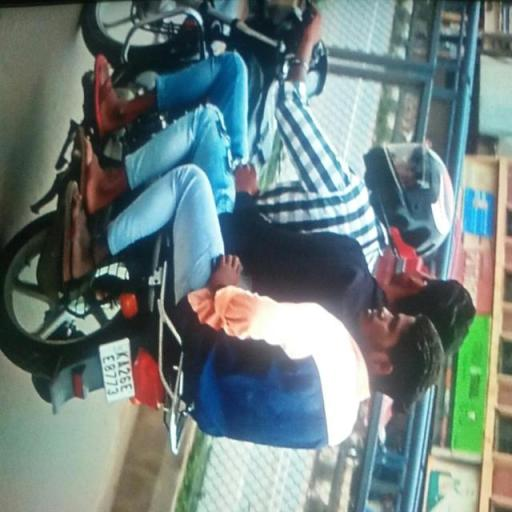tripple riding: (154, 0, 487, 451)
